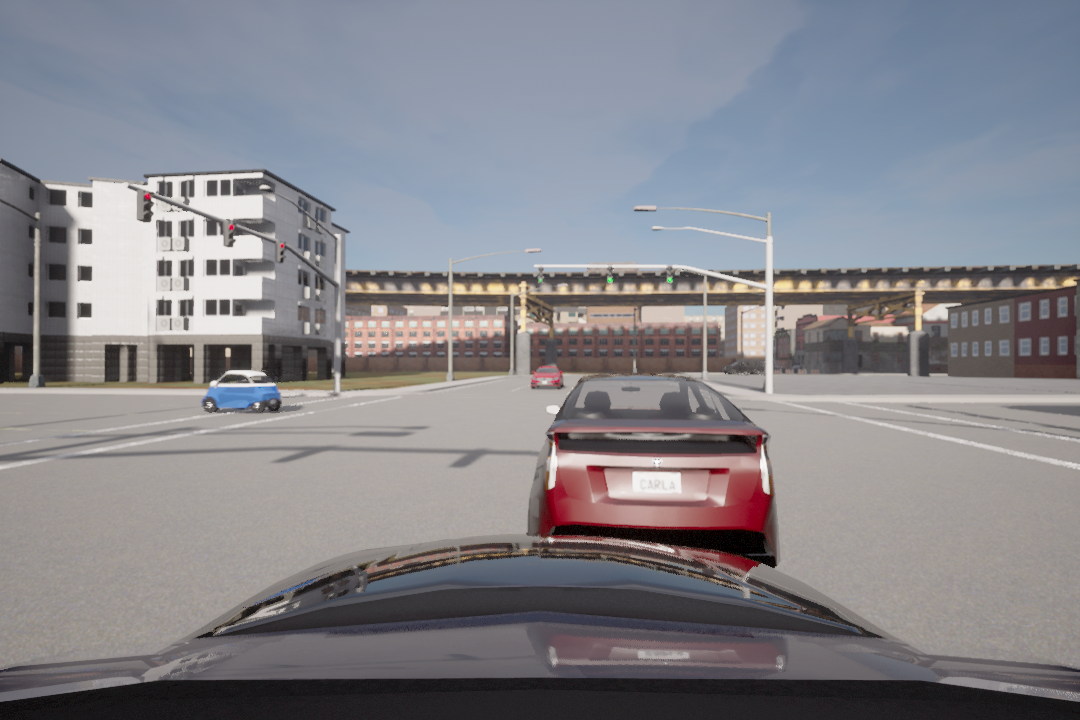TrafficLight: (222, 217, 238, 250), (137, 191, 152, 223), (274, 234, 288, 268), (665, 261, 677, 287), (604, 264, 616, 287), (535, 264, 546, 286)
